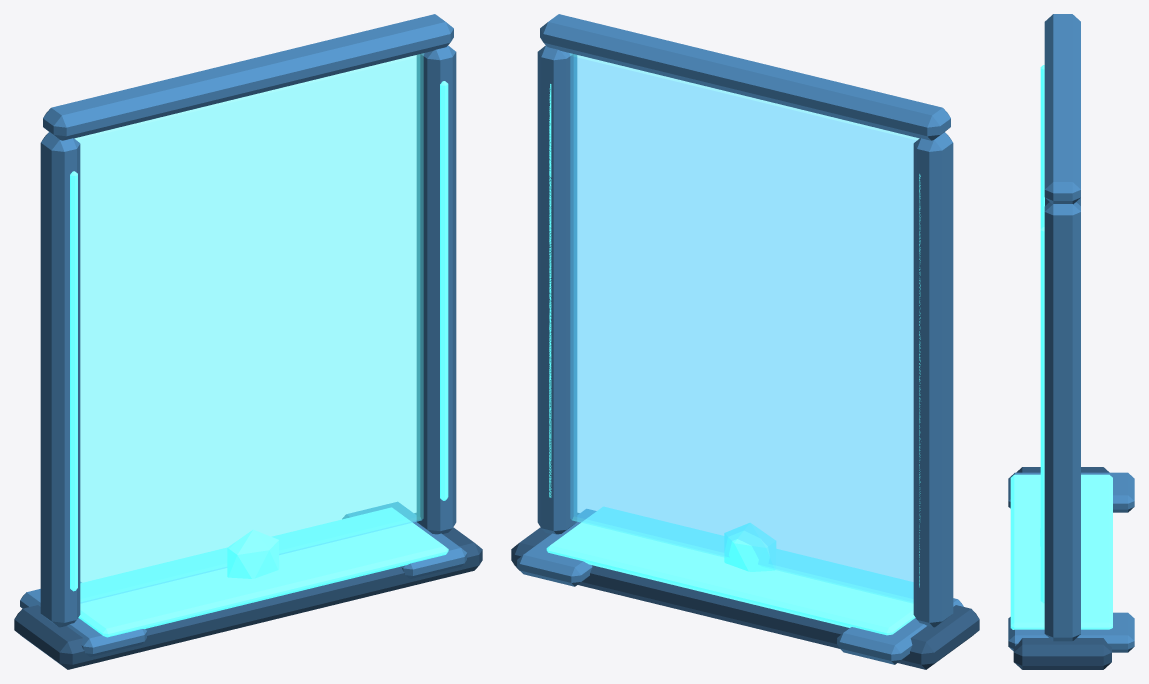
Rendered from ShieldDoor.glb.
The picture shows the model from 3 angles, left to right: view 1: azimuth 30°, elevation 25°; view 2: azimuth 150°, elevation 25°; view 3: azimuth 270°, elevation 25°; orthographic projection. The views are drawn at different scales.
Visible parts, largest first — view 1: EnergyShield_EnergySurface, EnergyShield_BaseGlow, EnergyShield_Pillar_Left, EnergyShield_Pillar_Right, EnergyShield_TopFrame, EnergyShield_Base, EnergyShield_PillarGlow_Right, EnergyShield_PillarGlow_Left, EnergyShield_Core, EnergyShield_Foot_Right, EnergyShield_Foot_Left; view 2: EnergyShield_EnergySurface, EnergyShield_Pillar_Left, EnergyShield_BaseGlow, EnergyShield_Pillar_Right, EnergyShield_TopFrame, EnergyShield_Base, EnergyShield_Foot_Left, EnergyShield_Foot_Right, EnergyShield_Core, EnergyShield_PillarGlow_Right; view 3: EnergyShield_Pillar_Right, EnergyShield_BaseGlow, EnergyShield_TopFrame, EnergyShield_Base, EnergyShield_PillarGlow_Right, EnergyShield_Foot_Right, EnergyShield_Foot_Left, EnergyShield_PillarGlow_Left.
Boxes of the visible parts, box(x1,y1,x2,y2) form: EnergyShield_EnergySurface: box(74, 53, 423, 603); EnergyShield_BaseGlow: box(78, 507, 448, 637); EnergyShield_Pillar_Left: box(40, 132, 80, 627); EnergyShield_Pillar_Right: box(416, 45, 456, 534); EnergyShield_TopFrame: box(43, 14, 453, 140); EnergyShield_Base: box(14, 513, 482, 669); EnergyShield_PillarGlow_Right: box(440, 81, 448, 500); EnergyShield_PillarGlow_Left: box(70, 171, 77, 591); EnergyShield_Core: box(227, 529, 279, 578); EnergyShield_Foot_Right: box(342, 502, 467, 578); EnergyShield_Foot_Left: box(20, 582, 147, 657); EnergyShield_EnergySurface: box(570, 53, 919, 603); EnergyShield_Pillar_Left: box(913, 132, 953, 627); EnergyShield_BaseGlow: box(546, 507, 915, 635); EnergyShield_Pillar_Right: box(537, 45, 577, 534); EnergyShield_TopFrame: box(540, 14, 950, 140); EnergyShield_Base: box(511, 513, 979, 669); EnergyShield_Foot_Left: box(837, 598, 963, 664); EnergyShield_Foot_Right: box(517, 509, 596, 586); EnergyShield_Core: box(724, 523, 775, 571); EnergyShield_PillarGlow_Right: box(549, 84, 551, 497); EnergyShield_Pillar_Right: box(1044, 202, 1080, 641); EnergyShield_BaseGlow: box(1010, 474, 1112, 629); EnergyShield_TopFrame: box(1044, 14, 1080, 204); EnergyShield_Base: box(1013, 467, 1111, 669); EnergyShield_PillarGlow_Right: box(1040, 227, 1044, 603); EnergyShield_Foot_Right: box(1008, 612, 1134, 652); EnergyShield_Foot_Left: box(1008, 472, 1134, 512); EnergyShield_PillarGlow_Left: box(1040, 65, 1044, 228).
Bounding box in the file's own units: 4.1 × 4.99 × 1.18.
